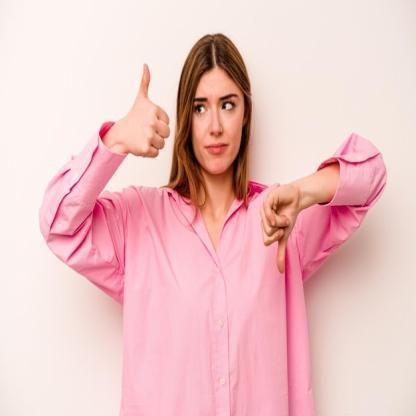thumb_down: (258, 178, 300, 276)
thumb_up: (122, 61, 171, 162)
